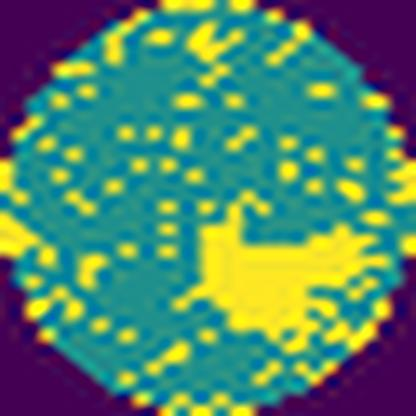Loc: (167, 190, 381, 356)
